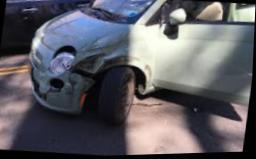Bumper: (25, 65, 99, 120)
Fender: (72, 33, 159, 91)
Light: (41, 47, 78, 76)
